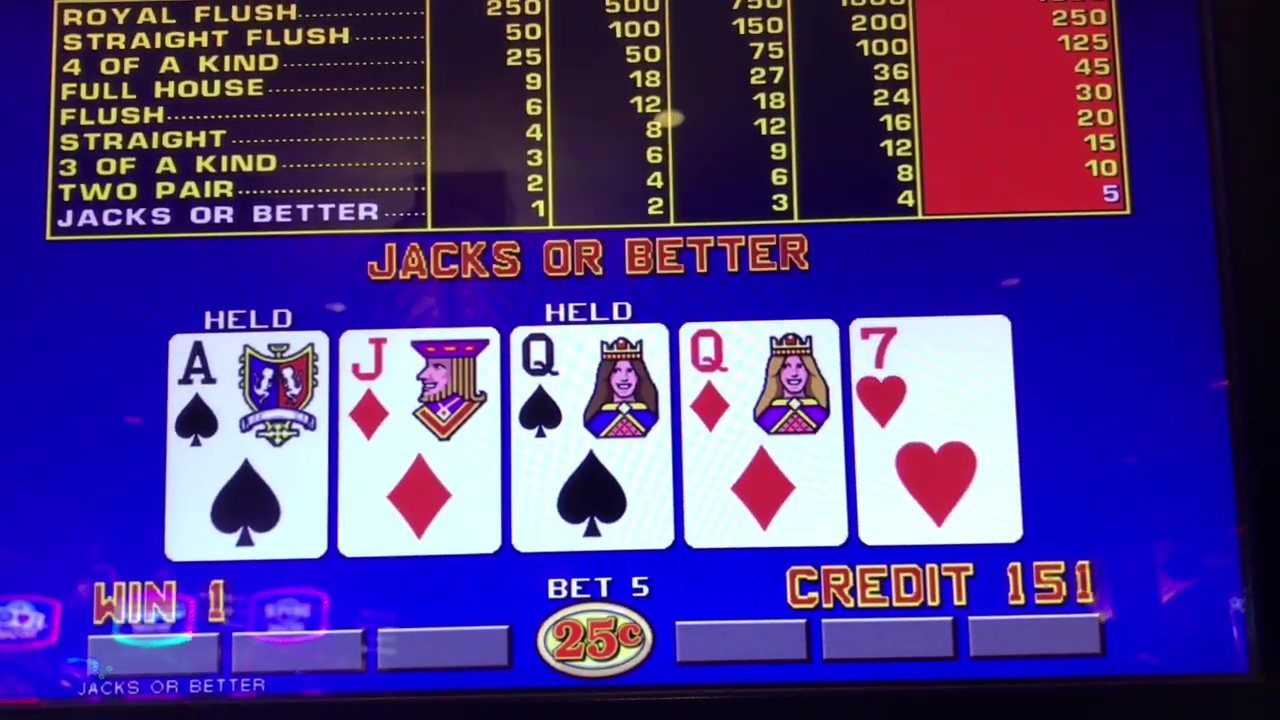DJ: (343, 330, 492, 450)
DQ: (686, 330, 833, 446)
H7: (856, 316, 1012, 439)
SA: (173, 334, 316, 455)
SQ: (518, 327, 669, 448)
